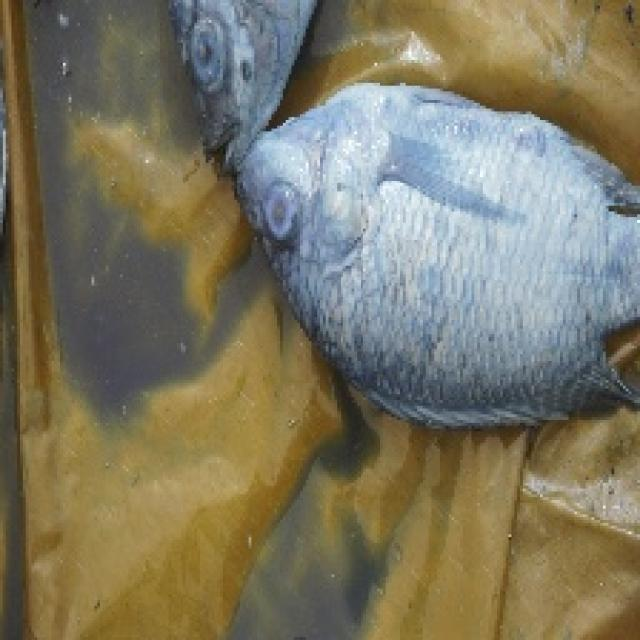Non-Fresh: (234, 105, 620, 386)
